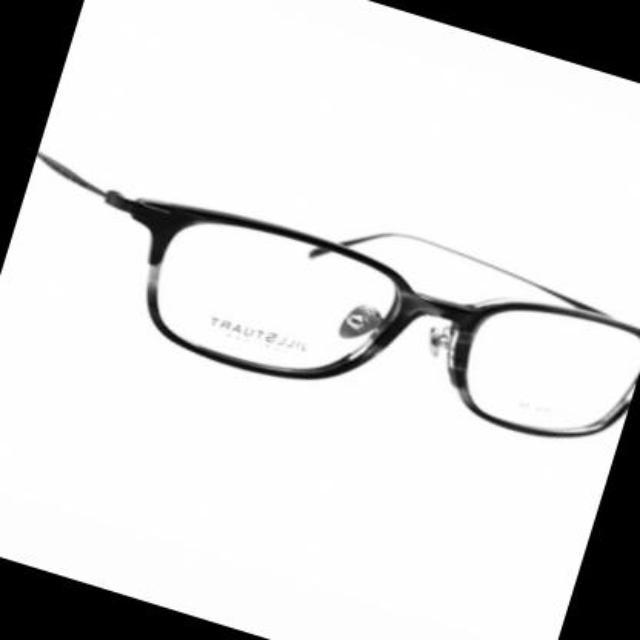glasses: (48, 153, 640, 435)
